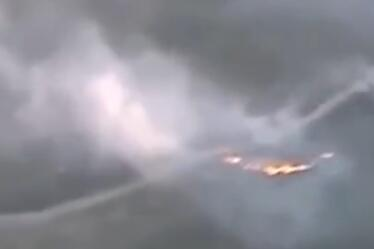fire: (217, 146, 328, 176)
yanwu: (1, 1, 374, 248)
